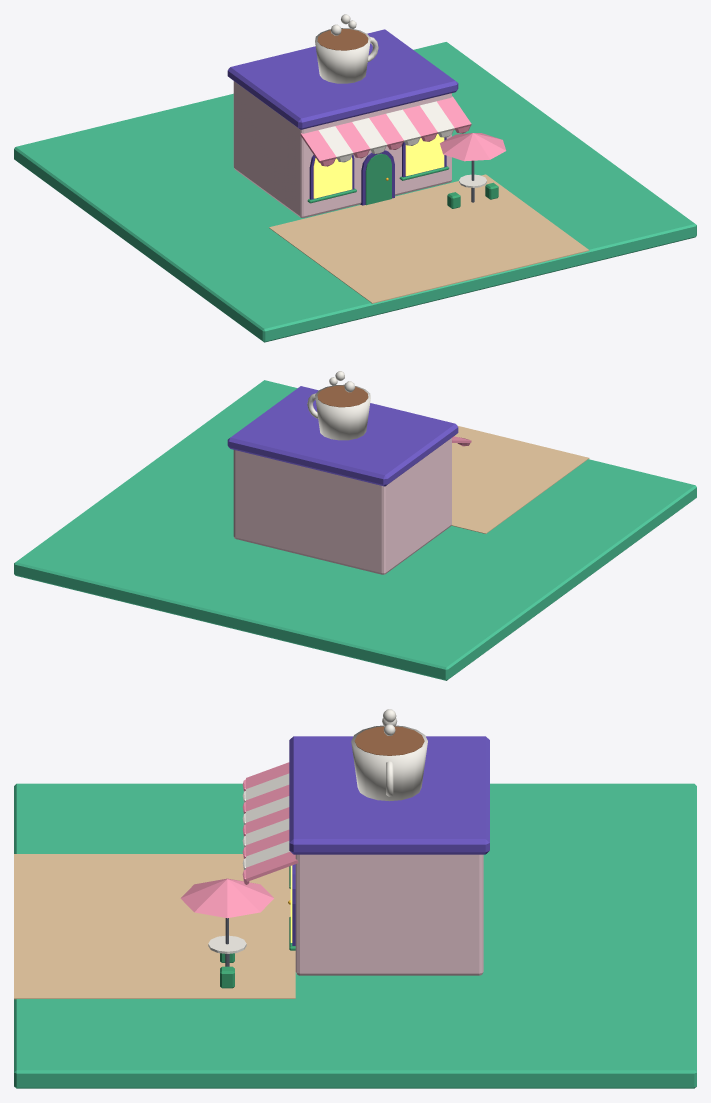
The model's file is bld_cafe.glb.
3 renders of one model, top to bottom at view 1: azimuth 30°, elevation 25°; view 2: azimuth 150°, elevation 25°; view 3: azimuth 270°, elevation 25°, orthographic. The views are drawn at different scales.
Parts seen in each view (by area): view 1: bld_cafe; view 2: bld_cafe; view 3: bld_cafe.
Boxes of the visible parts, x1,y1,x2,y2 form: bld_cafe: [14, 14, 696, 342]; bld_cafe: [14, 371, 696, 680]; bld_cafe: [14, 709, 696, 1088].
Bounding box in the file's own units: 16 × 6.14 × 16.
